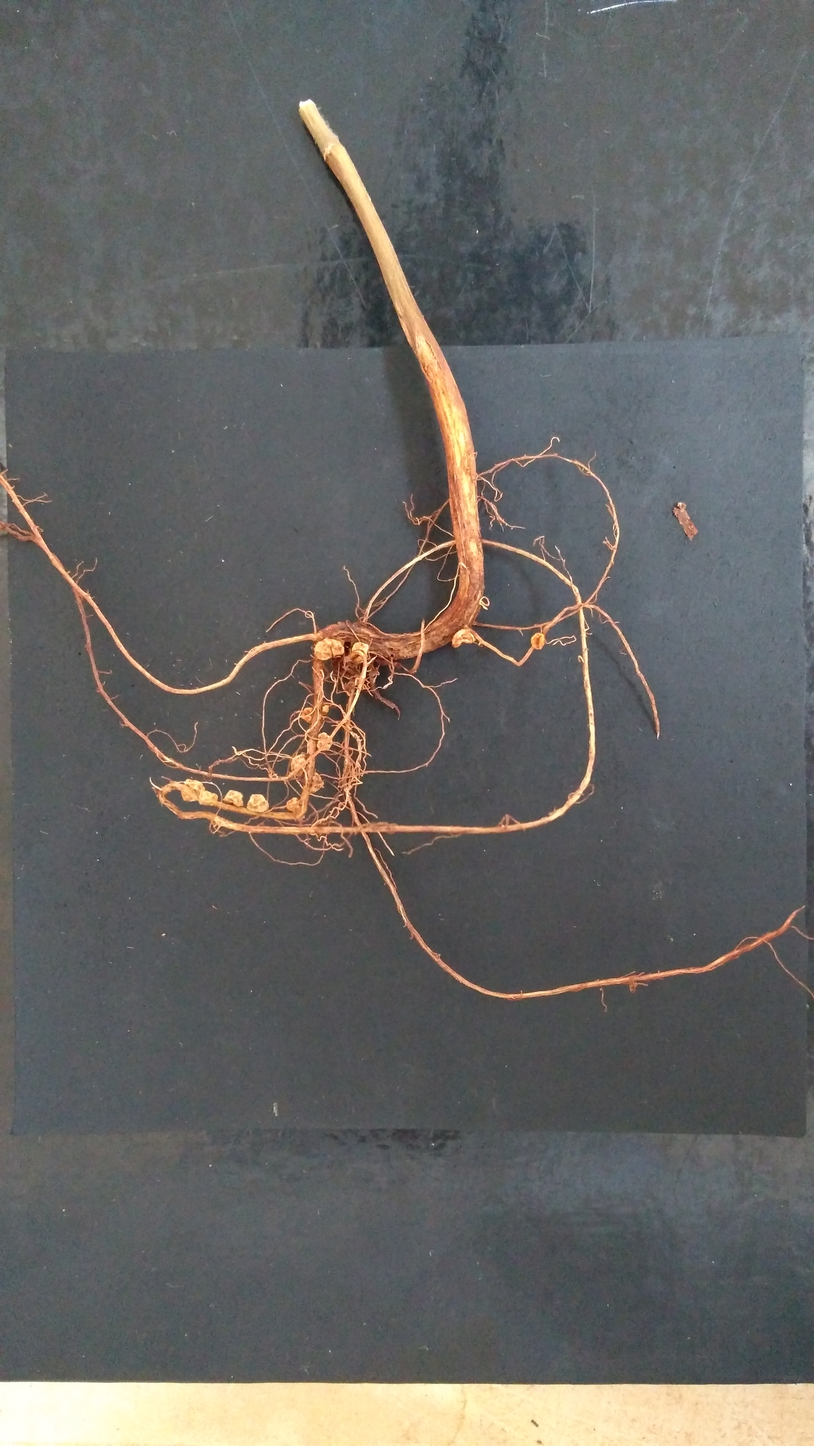nodule: (331, 643, 361, 678), (315, 638, 345, 660), (181, 779, 206, 802), (301, 704, 329, 723), (307, 731, 332, 751), (452, 628, 475, 647), (246, 794, 268, 813), (223, 789, 244, 807), (291, 754, 308, 776), (352, 642, 368, 664), (310, 772, 324, 794), (199, 790, 218, 806), (286, 797, 301, 814), (531, 633, 545, 650)
